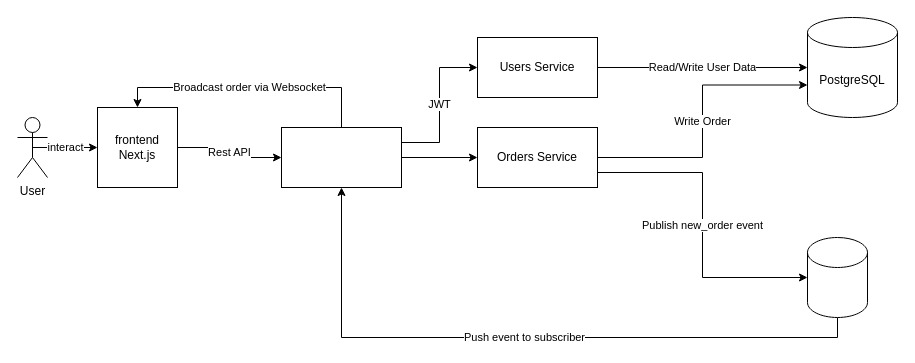
Image size: 915x363. Some labels were removed from this diagram. The centre of each missing label's shape, as x and y in pixels:
API Gate way: (x=341, y=157)
Redis: (x=837, y=277)
